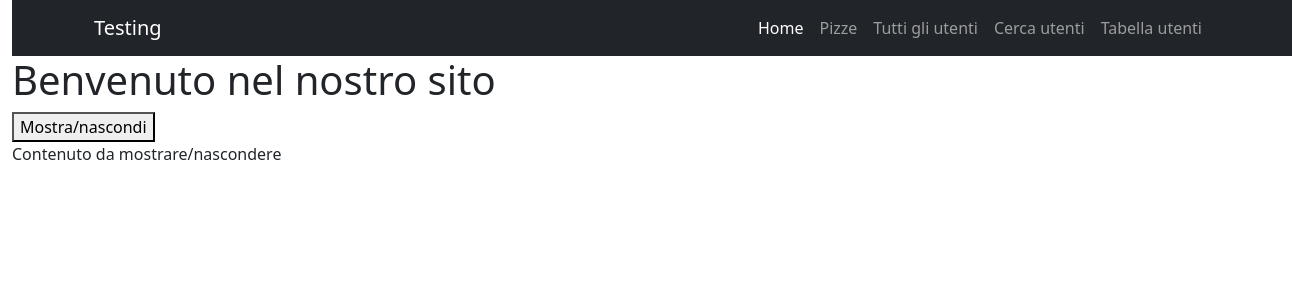
it: Navigation Component › Page Navigation › navigate to different pages when clicking links
Expected: the heading "Benvenuto nel nostro sito" is shown, top-left (12, 52), bottom-right (496, 107)
// clicca su pizze
Click the link "Pizze" at (838, 28), box top-left (820, 17), bottom-right (857, 39)
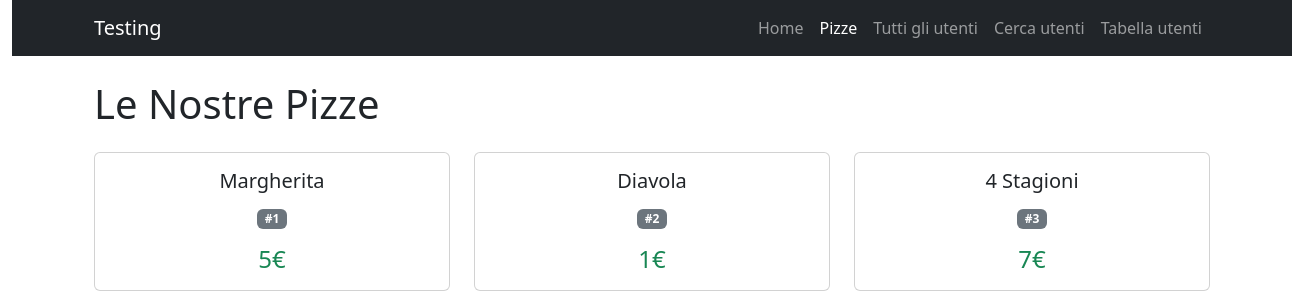
Result: the heading "Le Nostre Pizze" is shown at top-left (94, 76), bottom-right (380, 131)
